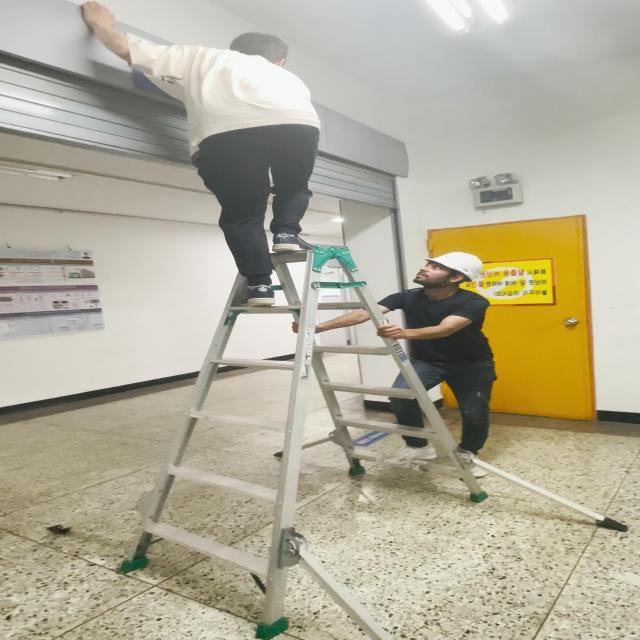helmet: (426, 252, 482, 282)
no_helmet: (231, 32, 287, 59)
no_mask: (412, 274, 442, 288)
no_vest: (190, 46, 310, 136), (399, 292, 484, 359)
person: (76, 0, 323, 308), (292, 250, 494, 466)
